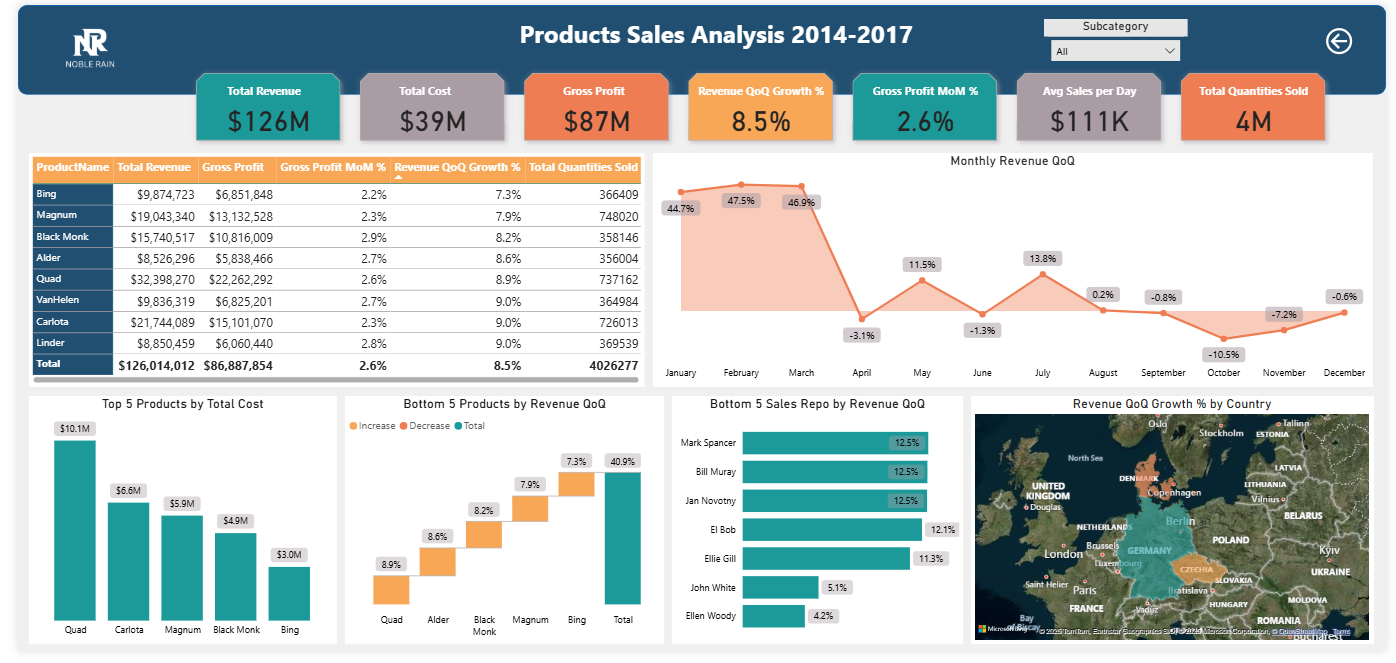

What the dashboard file says about the page in this screenshot:
{"tool":"powerbi","page":{"name":"Details","canvas":[1800,850],"ordinal":1},"visuals":[{"type":"shape","box":[0,0,1800,118],"z":0},{"type":"cardVisual","fields":{"Data":["Dax.Total Revenue","Dax.Total Cost","Dax.Gross Profit","Dax.Revenue QoQ Growth %","Dax.Gross Profit MoM %","Dax.Avg Sales per Day","Dax.Total Quantities Sold"]},"box":[216.5,71.8,1521.2,123.5],"z":1000},{"type":"textbox","box":[650.1,10.9,537.3,60.6],"z":2000},{"type":"image","box":[0,0,189.4,117.6],"z":3000},{"type":"actionButton","box":[1715.8,24.9,53.4,45.1],"z":4000},{"type":"waterfallChart","title":"Bottom 5 Products by Revenue QoQ","fields":{"Category":["Product.ProductName"],"Y":["Dax.Revenue QoQ Growth %"]},"box":[430.9,514.3,419.9,325.5],"z":5000},{"type":"clusteredBarChart","title":"Bottom 5 Sales Repo by Revenue QoQ","fields":{"Category":["Sales rep.Sales Rep Name"],"Y":["Dax.Revenue QoQ Growth %"]},"box":[860.3,514.3,383,325.5],"z":6000},{"type":"lineChart","title":"Monthly Revenue QoQ","fields":{"Category":["Calendar.Month_Name"],"Y":["Dax.Revenue QoQ Growth %"]},"box":[835.7,194.2,946.5,307.8],"z":7000},{"type":"clusteredColumnChart","title":"Top 5 Products by Total Cost ","fields":{"Category":["Product.ProductName"],"Y":["Dax.Total Cost"]},"box":[15,514.3,404.9,325.5],"z":8000},{"type":"pivotTable","fields":{"Rows":["Product.ProductName"],"Values":["Dax.Total Revenue","Dax.Gross Profit","Dax.Gross Profit MoM %","Dax.Revenue QoQ Growth %","Dax.Total Quantities Sold"]},"box":[15,194.2,809.7,307.8],"z":9000},{"type":"filledMap","fields":{"Category":["Geography.Country"]},"box":[1254.3,514.3,529.3,325.5],"z":10000},{"type":"slicer","title":"Subcategory","fields":{"Values":["Product.SubCategory Name"]},"box":[1350.3,17.8,188.7,62.9],"z":10001}]}

Visuals, with their boxes in screenshot pixels (x1, y1, x2, y2), scaled from the page's 1800x850 canvas onto the 1396x663 screenshot:
shape: left=0, top=0, right=1395, bottom=92
cardVisual - Dax.Total Revenue x Dax.Total Cost: left=168, top=56, right=1348, bottom=152
textbox: left=504, top=9, right=921, bottom=56
image: left=0, top=0, right=147, bottom=92
actionButton: left=1331, top=19, right=1372, bottom=55
"Bottom 5 Products by Revenue QoQ" waterfallChart: left=334, top=401, right=660, bottom=655
"Bottom 5 Sales Repo by Revenue QoQ" clusteredBarChart: left=667, top=401, right=964, bottom=655
"Monthly Revenue QoQ" lineChart: left=648, top=151, right=1382, bottom=392
"Top 5 Products by Total Cost " clusteredColumnChart: left=12, top=401, right=326, bottom=655
pivotTable - Product.ProductName x Dax.Total Revenue: left=12, top=151, right=640, bottom=392
filledMap - Geography.Country: left=973, top=401, right=1383, bottom=655
"Subcategory" slicer: left=1047, top=14, right=1194, bottom=63
